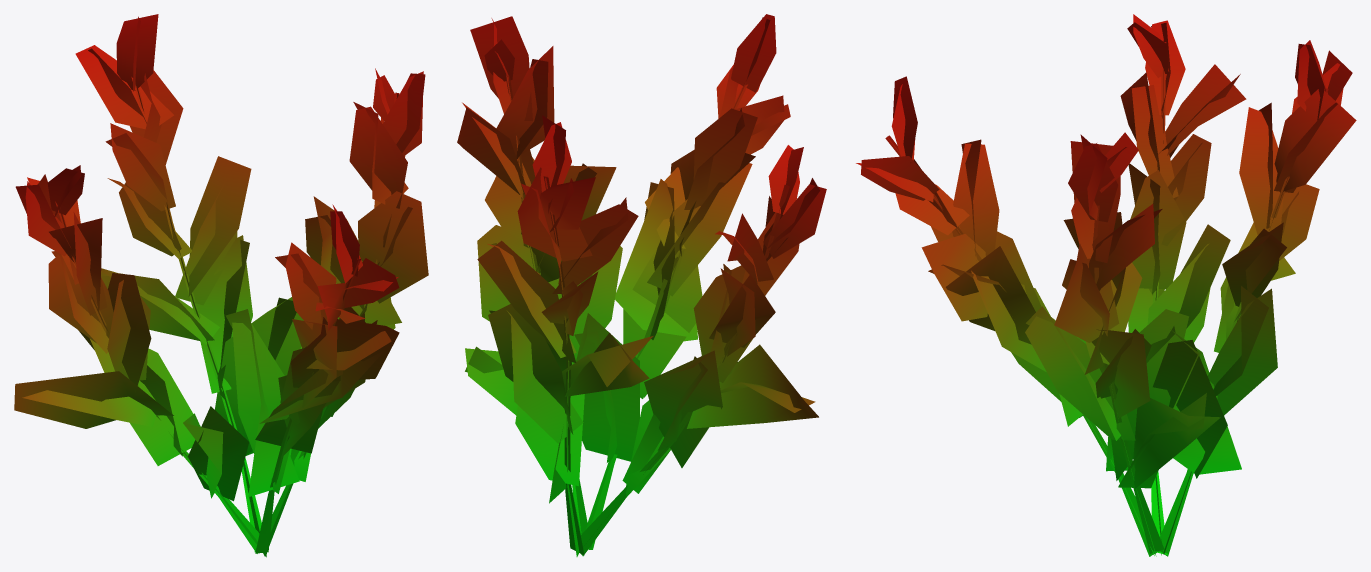
The model's file is Chamomile_LOD2_Var8.fbx.
The picture shows the model from 3 angles, left to right: view 1: azimuth 30°, elevation 25°; view 2: azimuth 150°, elevation 25°; view 3: azimuth 270°, elevation 25°; orthographic projection.
Parts seen in each view (by area): view 1: _vdl4_Var8_LOD2; view 2: _vdl4_Var8_LOD2; view 3: _vdl4_Var8_LOD2.
Boxes of the visible parts, bbox=[...] form: _vdl4_Var8_LOD2: bbox=[14, 14, 428, 557]; _vdl4_Var8_LOD2: bbox=[457, 14, 826, 556]; _vdl4_Var8_LOD2: bbox=[856, 14, 1356, 556].
Size of the model in its own units: 22.45 by 28.15 by 25.99.
